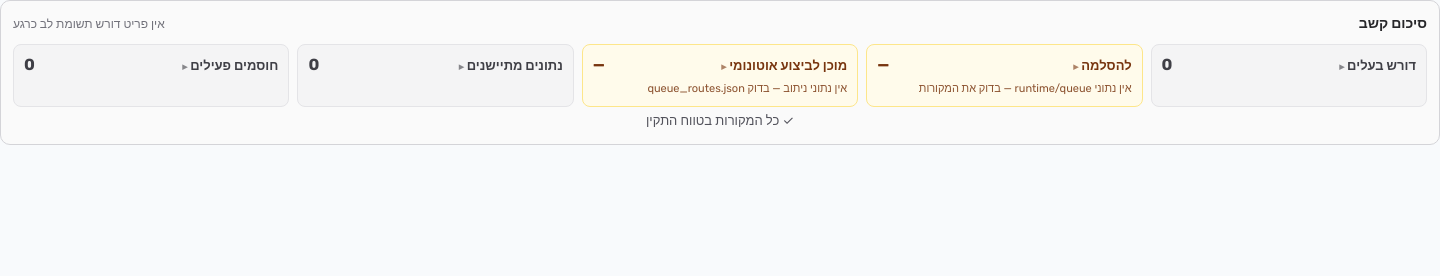
Scenario: <AttentionSummaryCard> — tap-to-expand › expanded cell suppresses nextAction row when category has no actionable next step
Click the button with test id "attention-summary-stale-toggle": (436,65) [308,53,563,77]
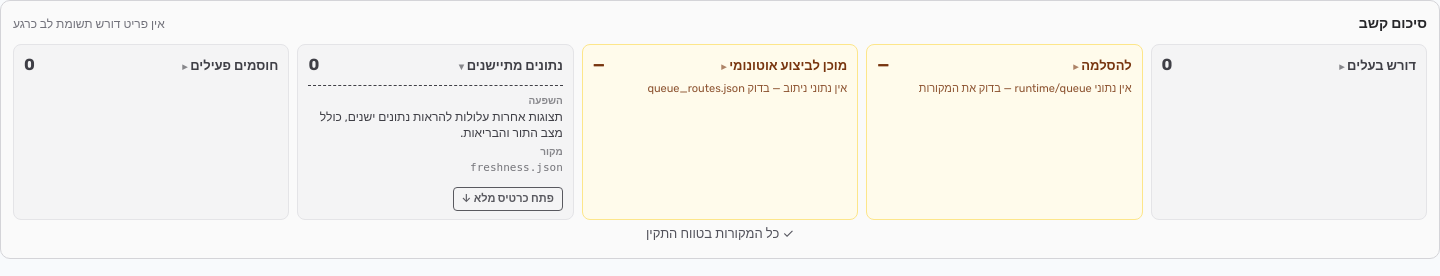
Expected: the text with test id "attention-summary-stale-impact" is shown, [308,109,563,141]
Expected: the text "freshness.json" is shown, [470,161,563,174]
